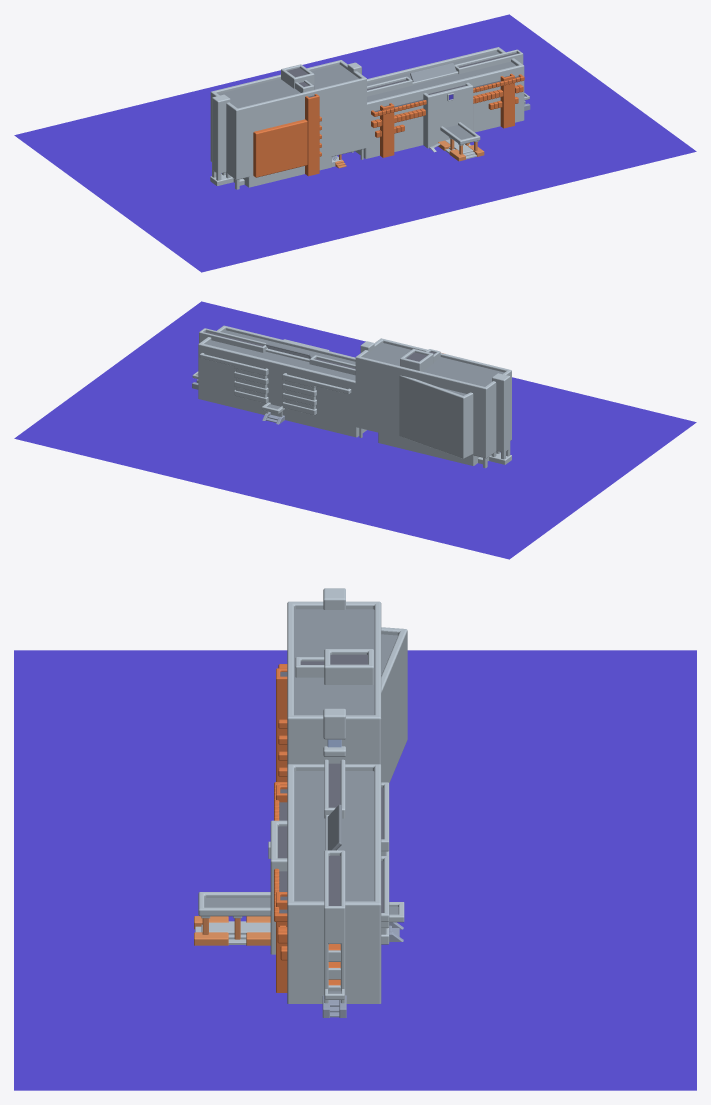
The model's file is aiu-predemo2.glb.
3 renders of one model, top to bottom at view 1: azimuth 30°, elevation 25°; view 2: azimuth 150°, elevation 25°; view 3: azimuth 270°, elevation 25°, orthographic. The views are drawn at different scales.
Parts seen in each view (by area): view 1: floor, Cube.752, Cube.1116, Cube.058, Cube.042, Cube.057, Cube.106, Cube.105, Cube.043, Cube.059, Cube.114, Cube.052 (+3 smaller); view 2: floor, Cube.752, Cube.1116, Cube.339, Cube.057, Cube.106, Cube.105, Cube.059, Cube.104, Cube.244, Cube.1099, Cube.300; view 3: floor, Cube.1116, Cube.106, Cube.057, Cube.752, Cube.339, Cube.059, Cube.104, Cube.308, Cube.043, Cube.042, Cube.052.
Boxes of the visible parts, <box> form: floor: <box>14,14,696,272</box>; Cube.752: <box>210,60,366,187</box>; Cube.1116: <box>355,47,524,158</box>; Cube.058: <box>253,119,307,177</box>; Cube.042: <box>423,82,473,148</box>; Cube.057: <box>218,64,359,108</box>; Cube.106: <box>367,51,516,102</box>; Cube.105: <box>212,94,230,180</box>; Cube.043: <box>305,94,319,176</box>; Cube.059: <box>454,49,523,74</box>; Cube.114: <box>380,103,394,157</box>; Cube.052: <box>500,73,514,128</box>; floor: <box>14,301,696,559</box>; Cube.752: <box>355,338,511,465</box>; Cube.1116: <box>198,325,366,437</box>; Cube.339: <box>399,375,473,458</box>; Cube.057: <box>363,343,504,386</box>; Cube.106: <box>206,330,355,380</box>; Cube.105: <box>492,373,510,459</box>; Cube.059: <box>199,328,267,352</box>; Cube.104: <box>400,348,433,371</box>; Cube.244: <box>309,355,355,375</box>; Cube.1099: <box>199,353,268,375</box>; Cube.300: <box>282,373,351,394</box>; floor: <box>14,650,696,1090</box>; Cube.1116: <box>287,764,381,1003</box>; Cube.106: <box>294,771,374,901</box>; Cube.057: <box>294,609,374,715</box>; Cube.752: <box>287,601,381,764</box>; Cube.339: <box>381,627,407,782</box>; Cube.059: <box>324,850,345,1003</box>; Cube.104: <box>324,649,373,684</box>; Cube.308: <box>198,892,270,916</box>; Cube.043: <box>276,668,287,781</box>; Cube.042: <box>270,820,287,954</box>; Cube.052: <box>276,892,287,992</box>.
Bounding box in the file's own units: 29.11 × 4.97 × 19.08.
